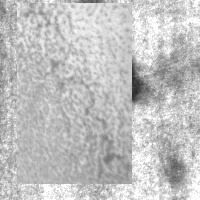patches: (70, 4, 143, 102)
pitted_surface: (17, 3, 132, 184)
